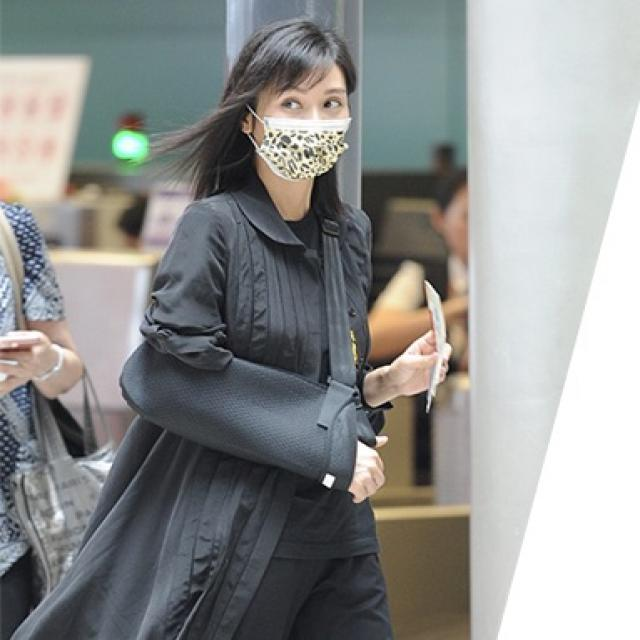mask: (254, 70, 348, 179)
